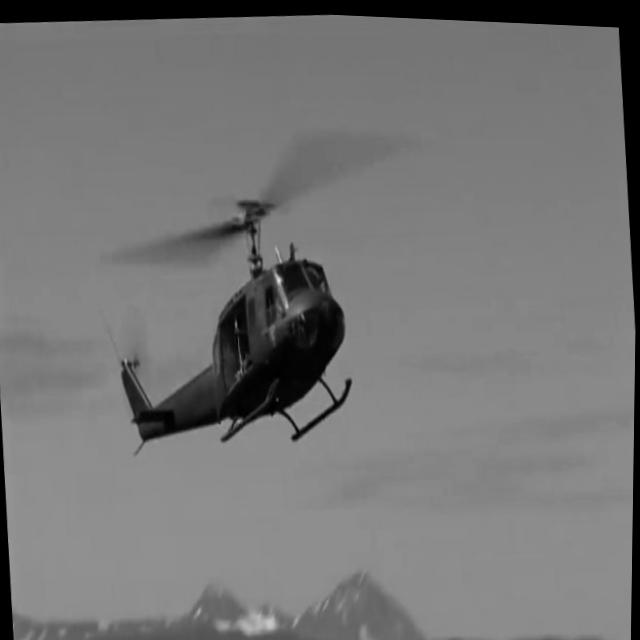helikopter: (98, 222, 381, 483)
